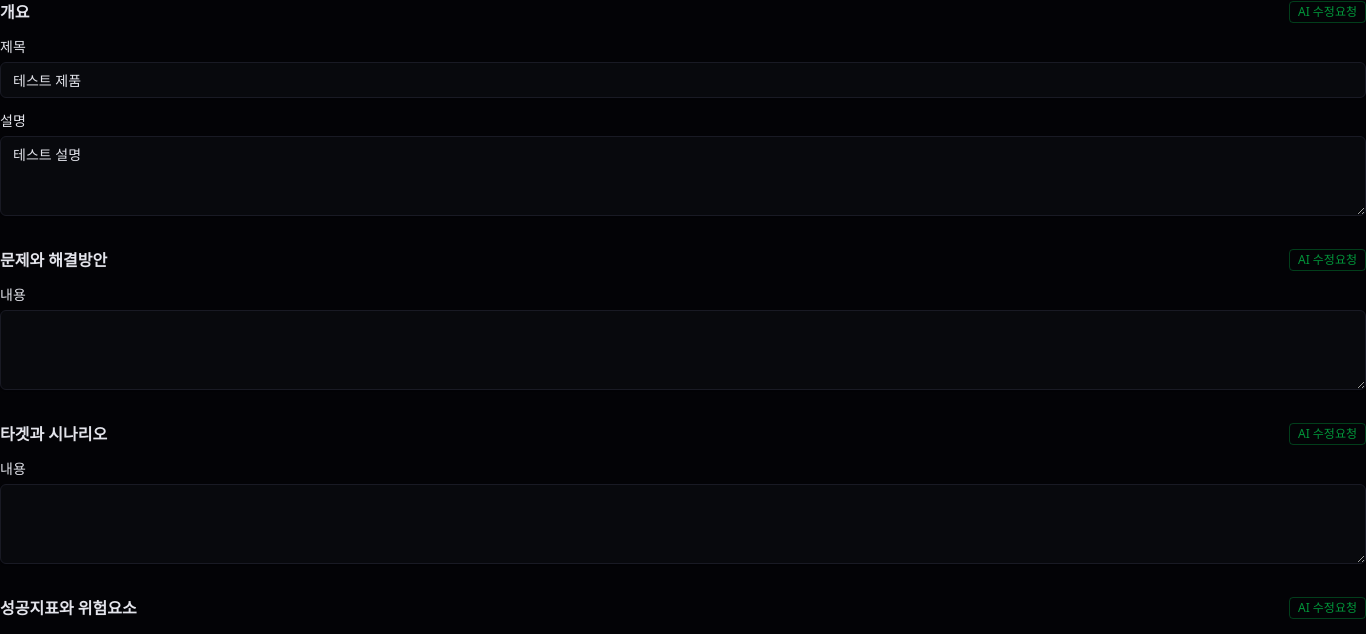
SseBanner + useSseWatcher (D-03 편집 보호) › "내 편집 유지" 클릭 → 배너 닫힘, 폼 편집값 보존(덮어쓰기 없음)
This screenshot has width=1366, height=634.
Replace the text in the field with test id "input-title" with "수정된 제목" at (683, 80), box [0,62,1365,98]
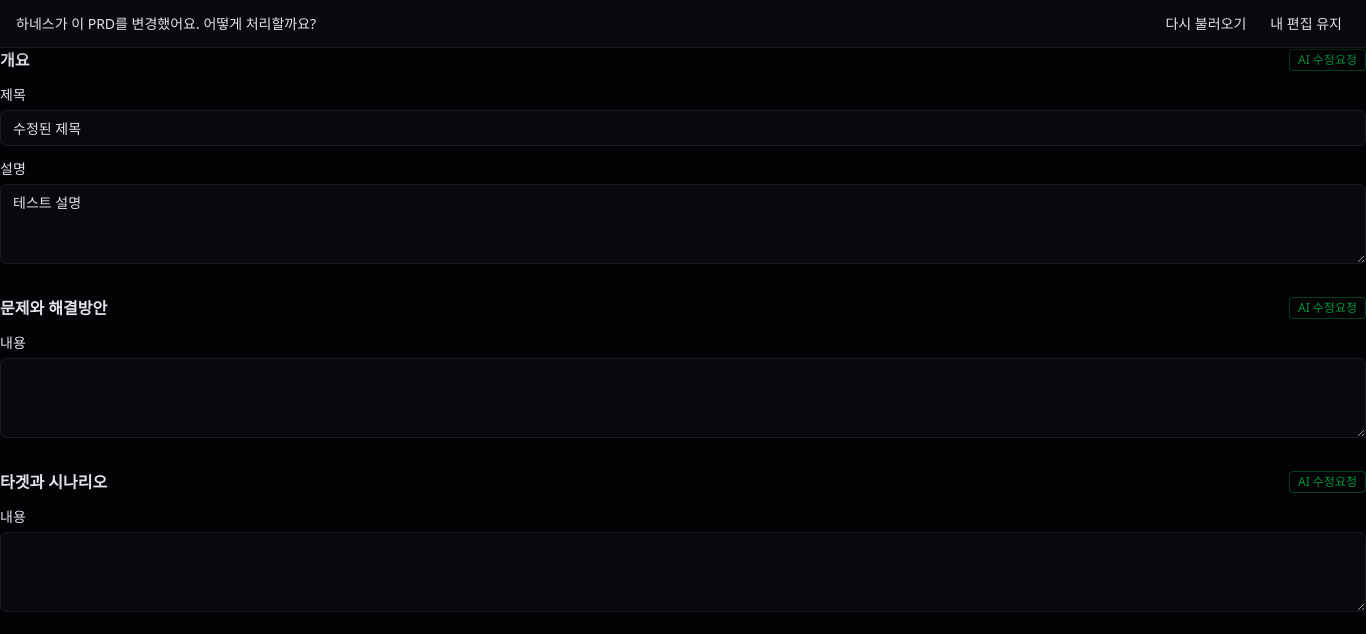
Expected: the text "하네스가 이 PRD를 변경했어요. 어떻게 처리할까요?" is shown, [16,14,316,34]
"내 편집 유지" 클릭
Click the button "내 편집 유지" at (1306, 24), box [1262,10,1350,38]
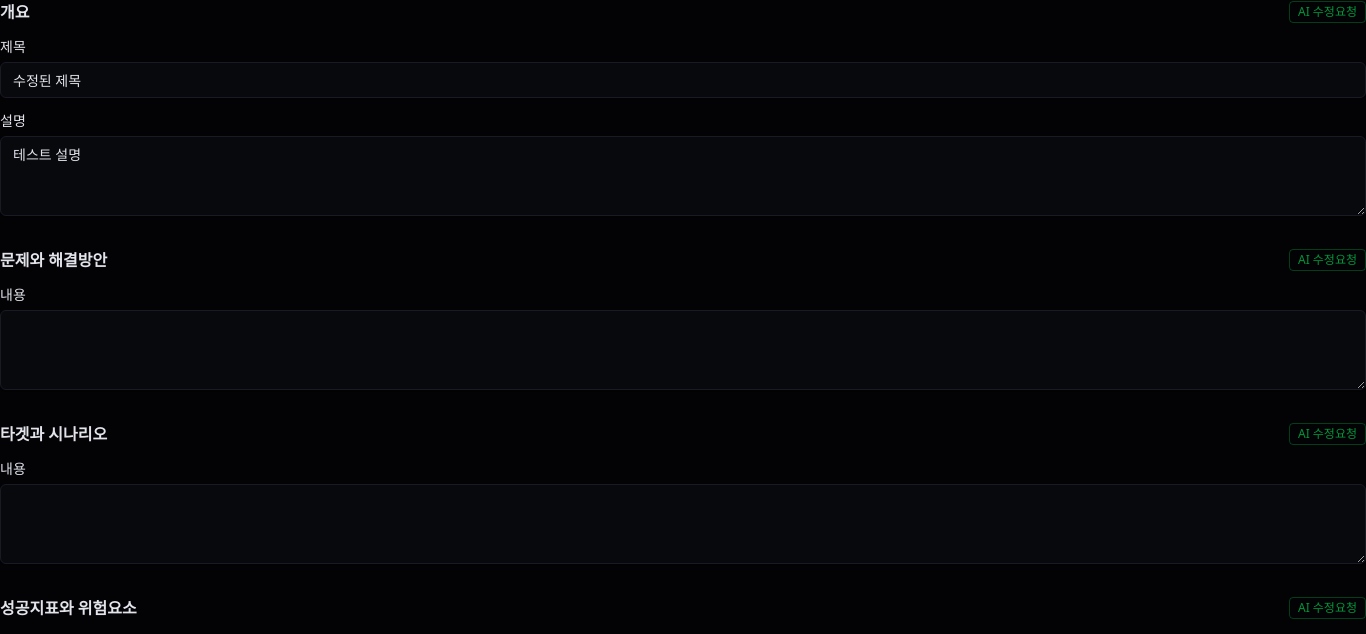
Expected: the text "하네스가 이 PRD를 변경했어요. 어떻게 처리할까요?" is gone
